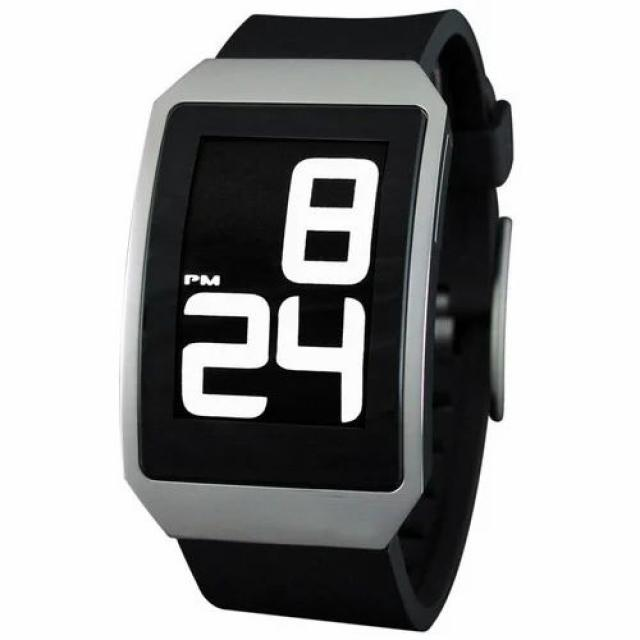watch: (116, 56, 446, 547)
